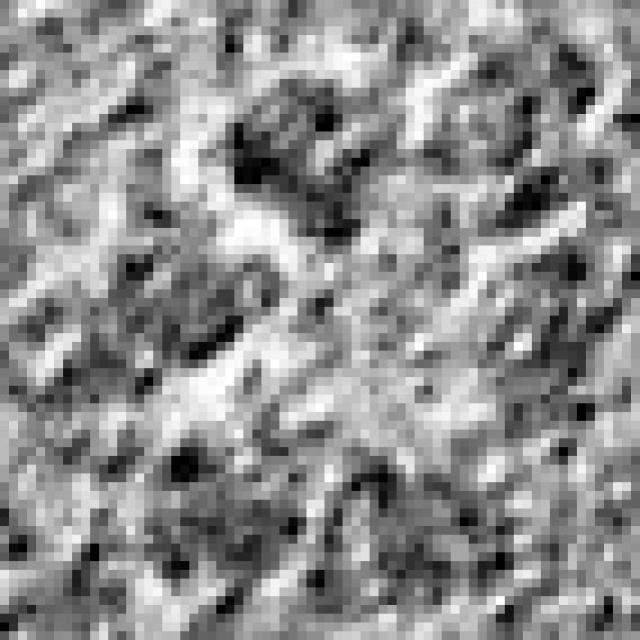inner: (282, 202, 467, 409)
lobe: (0, 245, 290, 413), (280, 445, 517, 629), (419, 26, 619, 237), (463, 237, 631, 471), (197, 73, 404, 255), (135, 403, 326, 600)
outer: (0, 0, 640, 640)
